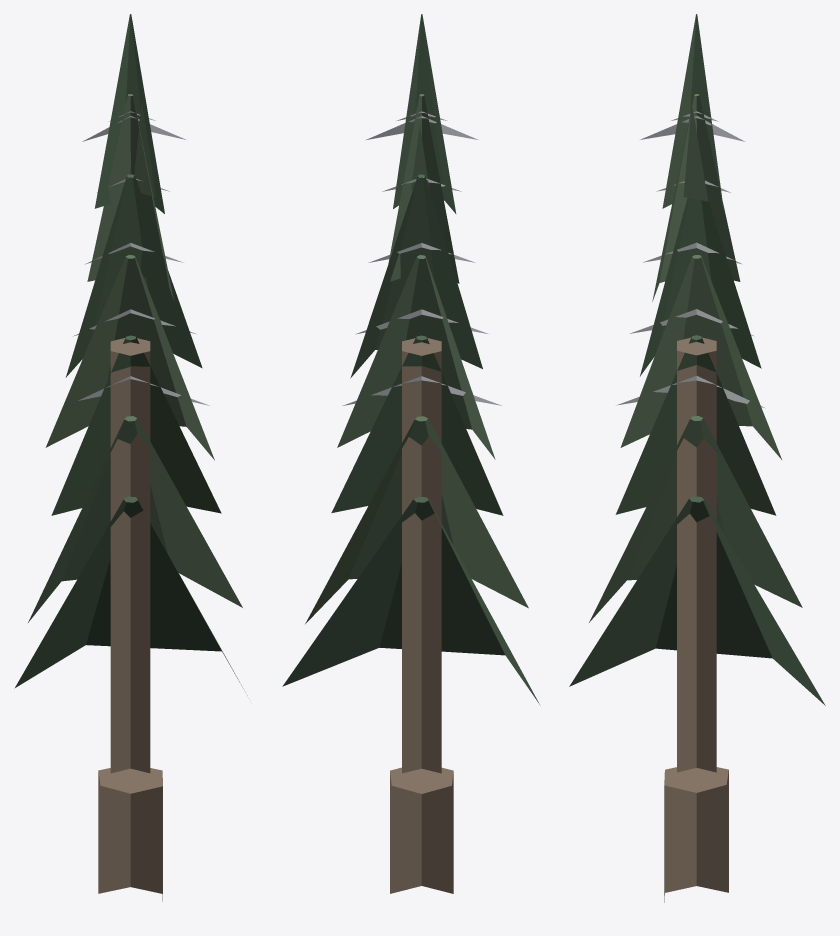
File: shu.yunshan@subadult__autumn.glb
3 views of the same model, side by side, from view 1: azimuth 30°, elevation 25°; view 2: azimuth 150°, elevation 25°; view 3: azimuth 270°, elevation 25° (orthographic).
Visible parts, largest first — view 1: shu.yunshan@subadult__autumn; view 2: shu.yunshan@subadult__autumn; view 3: shu.yunshan@subadult__autumn.
Part boxes in pixels (x1=…): shu.yunshan@subadult__autumn: x1=14, y1=14, x2=247, y2=901; shu.yunshan@subadult__autumn: x1=282, y1=14, x2=540, y2=893; shu.yunshan@subadult__autumn: x1=569, y1=14, x2=825, y2=902.
Bounding box in the file's own units: 2.49 × 9.88 × 2.6.
